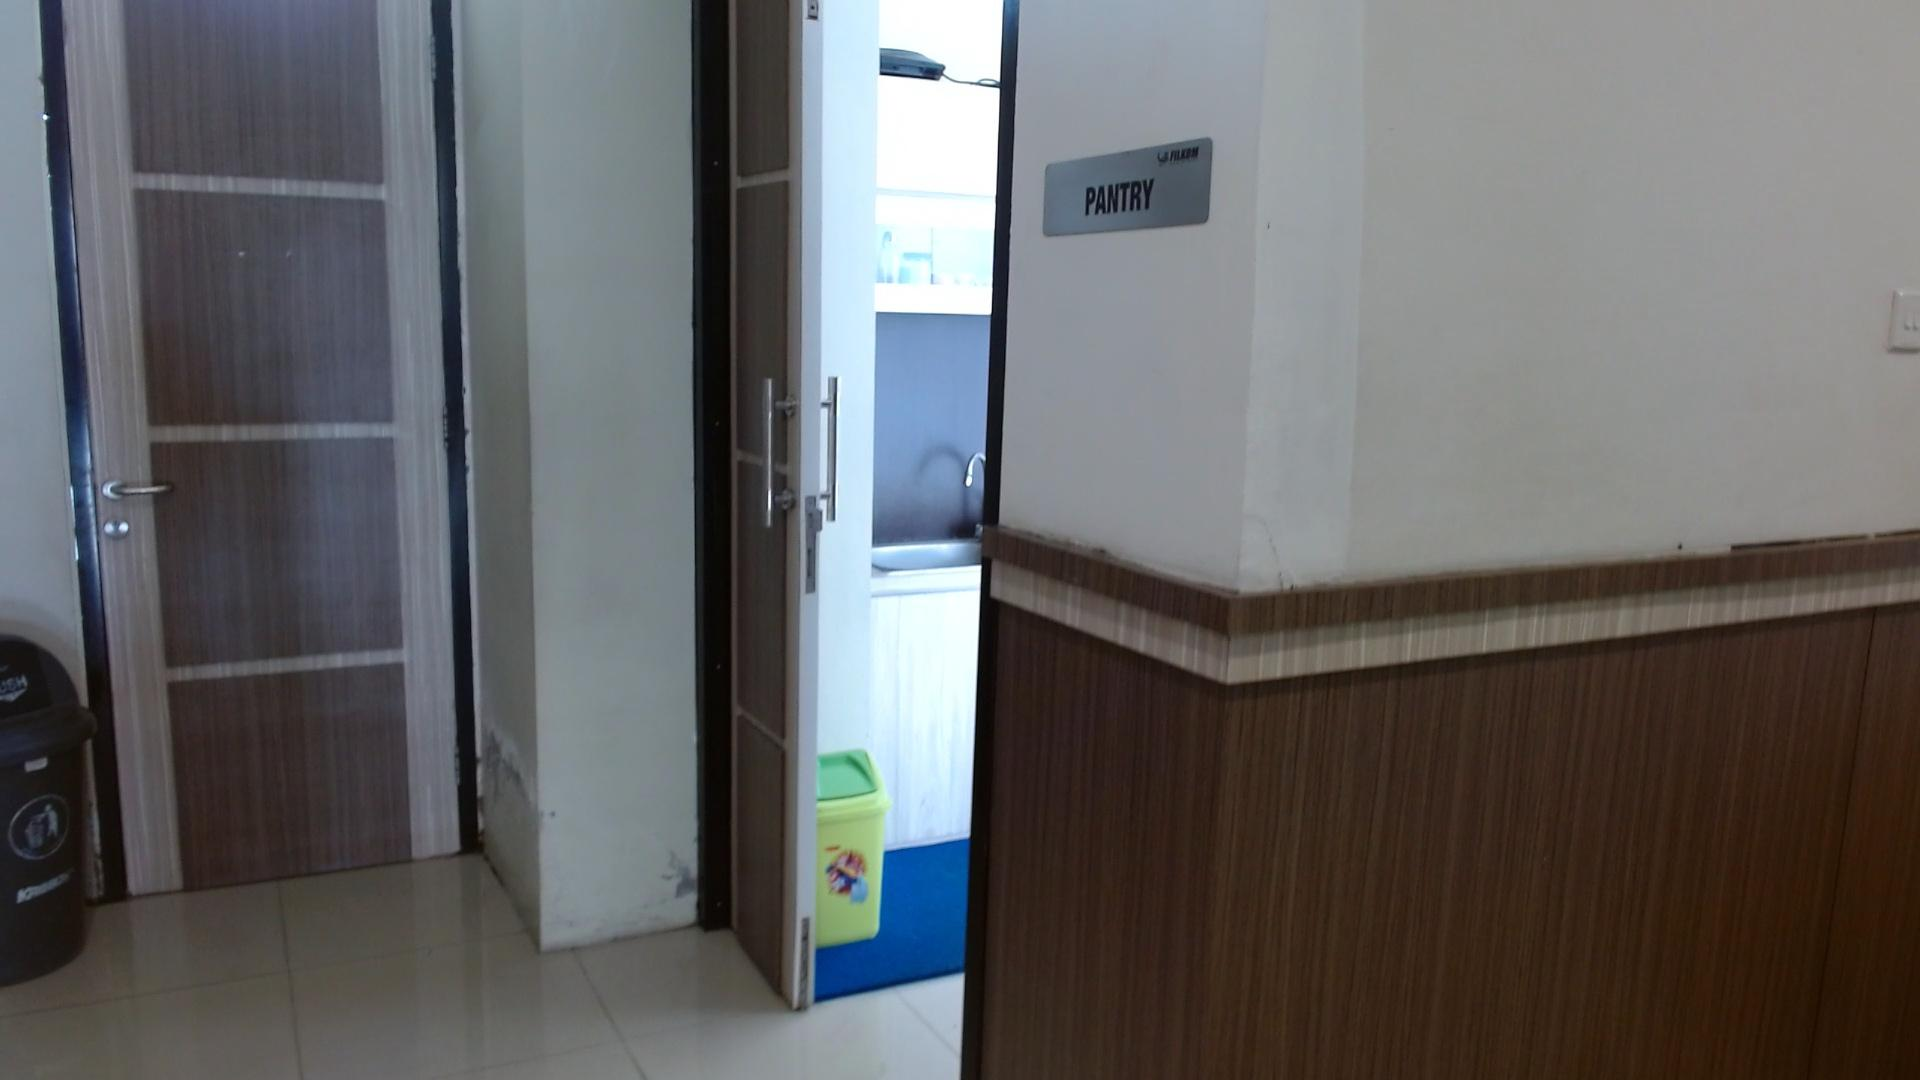plate: (1043, 136, 1213, 237)
